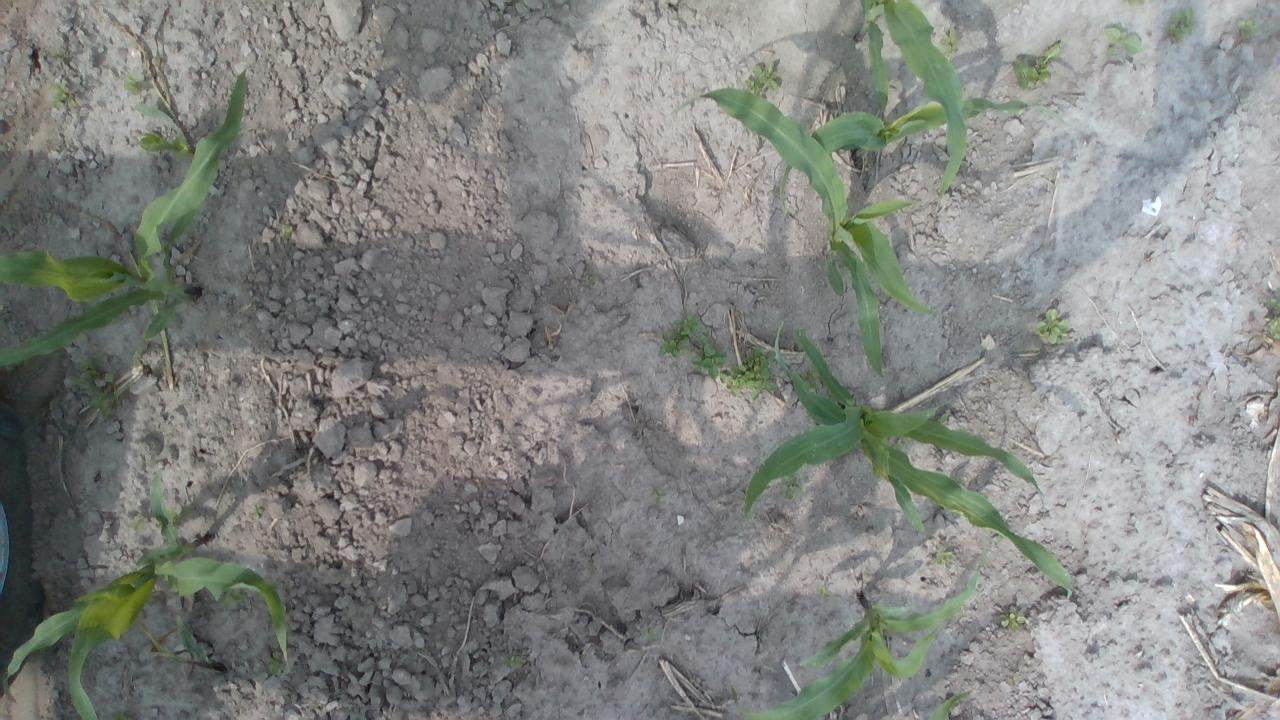Maize: (742, 330, 1081, 608), (661, 82, 940, 382), (1, 62, 252, 374), (3, 468, 292, 720), (780, 16, 1074, 231), (732, 536, 998, 718), (858, 0, 968, 196)
Weeds: (657, 310, 782, 402), (62, 362, 121, 426), (1011, 41, 1066, 93), (38, 52, 74, 102), (1104, 23, 1142, 59), (1036, 308, 1071, 343), (1170, 8, 1198, 42), (751, 60, 778, 92), (1265, 290, 1280, 344), (939, 26, 962, 52), (1000, 608, 1028, 629), (1236, 20, 1264, 40), (125, 74, 149, 94), (581, 268, 600, 290), (128, 514, 148, 534), (638, 626, 661, 640), (936, 551, 962, 563), (1124, 0, 1146, 13), (654, 488, 669, 507), (282, 224, 295, 244), (252, 504, 268, 519), (504, 656, 524, 668)
